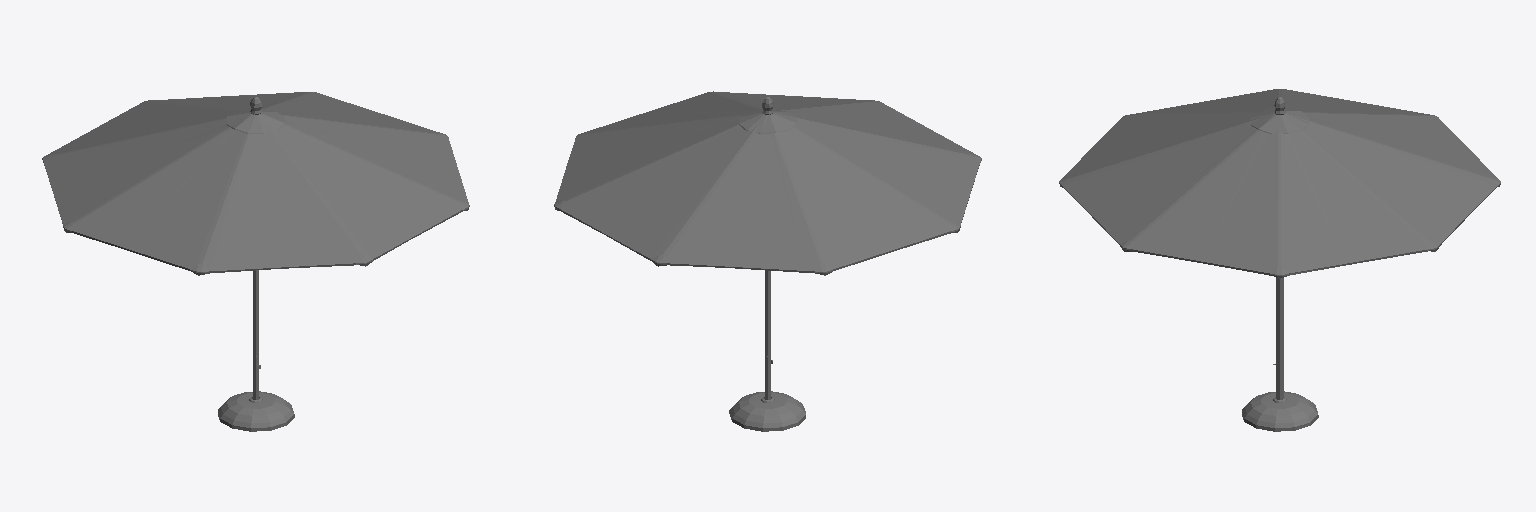
The model's file is umbrella.OBJ.
3 views of the same model, side by side, from view 1: azimuth 30°, elevation 25°; view 2: azimuth 150°, elevation 25°; view 3: azimuth 270°, elevation 25° (orthographic).
Parts seen in each view (by area): view 1: default; view 2: default; view 3: default.
Boxes of the visible parts, x1=… form: default: x1=42, y1=92, x2=469, y2=431; default: x1=554, y1=91, x2=981, y2=431; default: x1=1059, y1=89, x2=1500, y2=431.
Size of the model in its own units: 547 by 437 by 548.